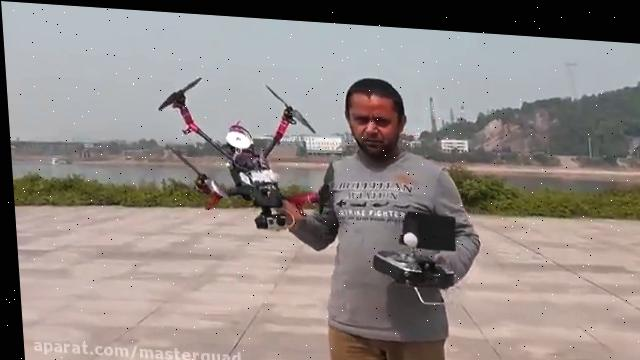drone: (152, 71, 335, 230)
